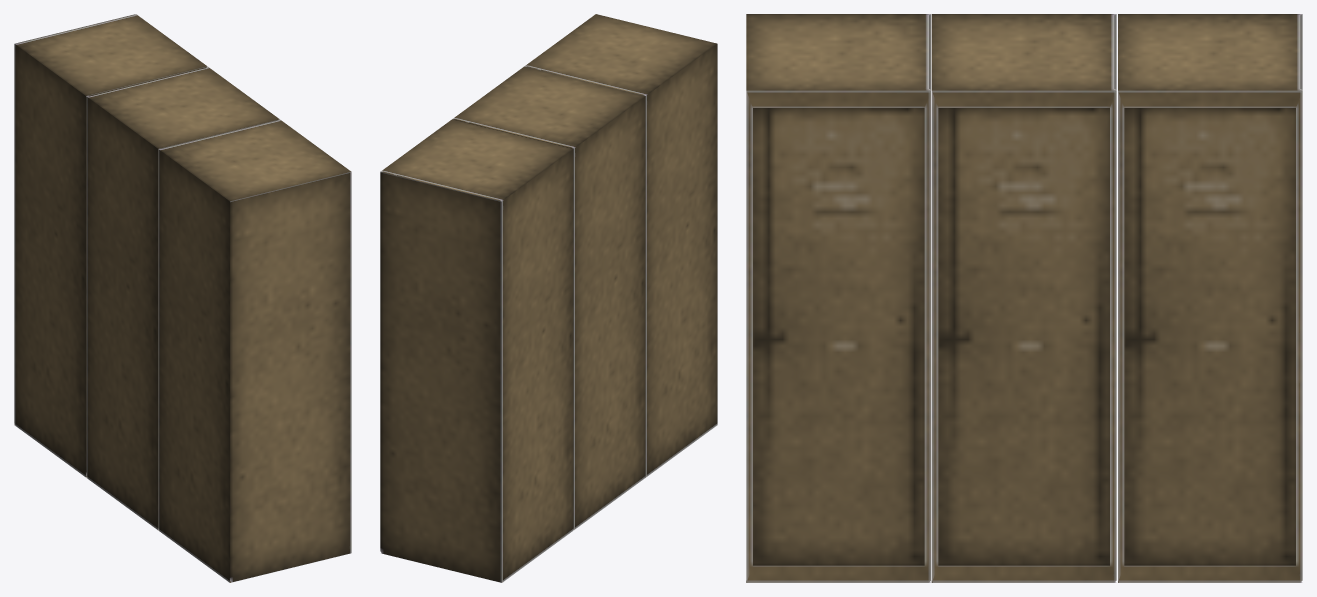
File: Brown triple lockers.fbx
The picture shows the model from 3 angles, left to right: view 1: azimuth 30°, elevation 25°; view 2: azimuth 150°, elevation 25°; view 3: azimuth 270°, elevation 25°; orthographic projection. The views are drawn at different scales.
Parts seen in each view (by area): view 1: Brown Triple Lockers; view 2: Brown Triple Lockers; view 3: Brown Triple Lockers, Lockers Door.003, Lockers Door.004, Lockers Door.005.
Part boxes in pixels (<box>): Brown Triple Lockers: <box>14,14,351,582</box>; Brown Triple Lockers: <box>380,14,717,582</box>; Brown Triple Lockers: <box>746,14,1302,582</box>; Lockers Door.003: <box>753,108,924,565</box>; Lockers Door.004: <box>938,108,1109,565</box>; Lockers Door.005: <box>1124,108,1295,565</box>.
Size of the model in its own units: 100 by 300 by 307.
